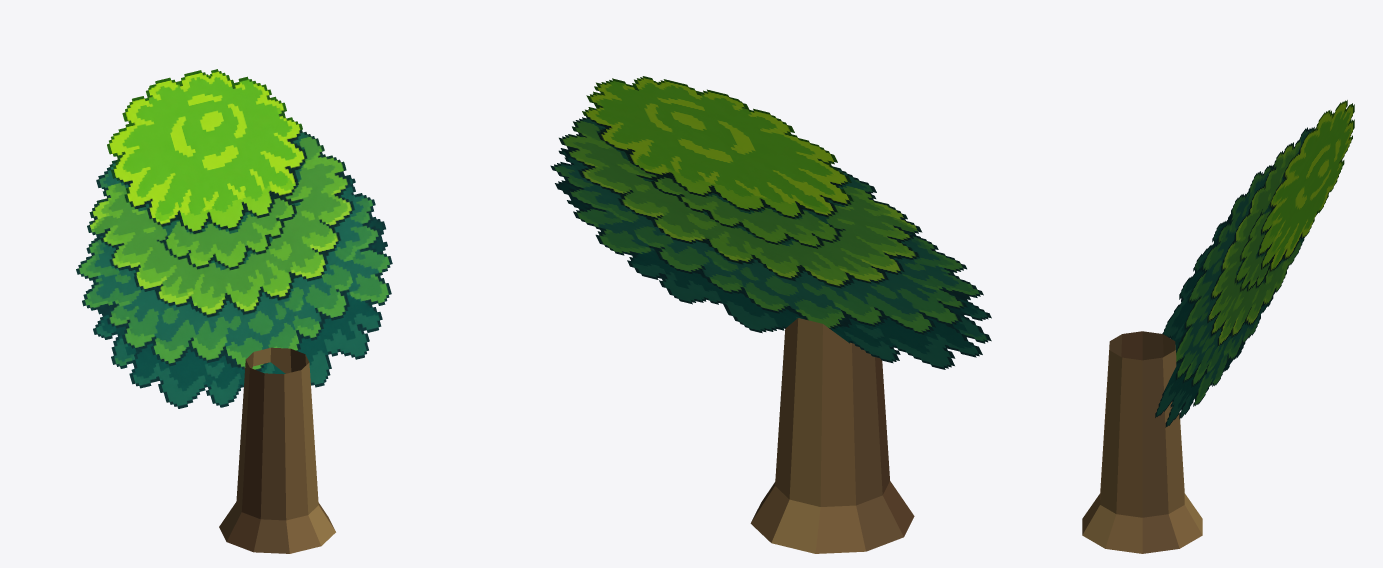
File: SM_Pixel_CardTree_C.fbx
3 views of the same model, side by side, from view 1: azimuth 30°, elevation 25°; view 2: azimuth 150°, elevation 25°; view 3: azimuth 270°, elevation 25° (orthographic). The views are drawn at different scales.
Visible parts, largest first — view 1: SM_Pixel_CardTree_C; view 2: SM_Pixel_CardTree_C; view 3: SM_Pixel_CardTree_C.
Part boxes in pixels (x1=…): SM_Pixel_CardTree_C: x1=76, y1=69, x2=392, y2=553; SM_Pixel_CardTree_C: x1=550, y1=76, x2=991, y2=553; SM_Pixel_CardTree_C: x1=1082, y1=100, x2=1354, y2=553.
Bounding box in the file's own units: 353 × 258 × 427.
2 materials, 2 textured.
